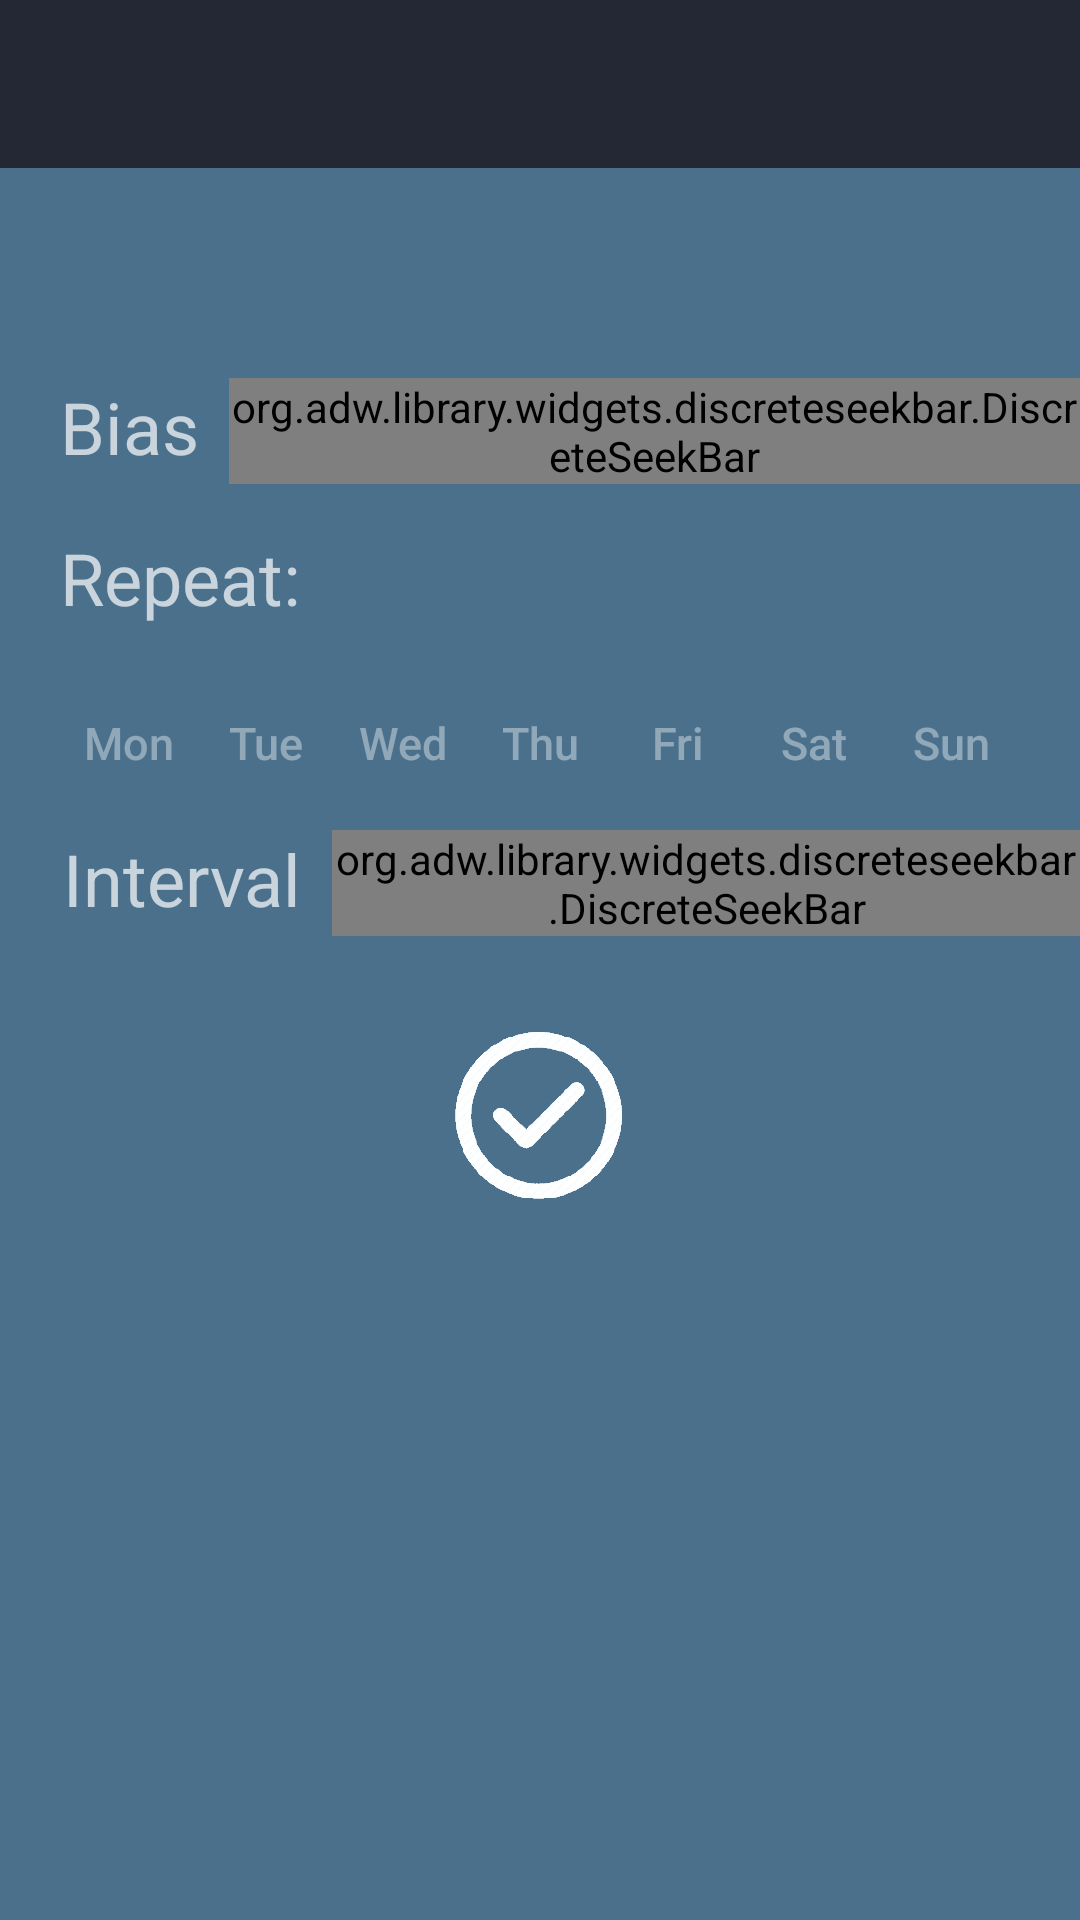

Icon click points for this 1080 × 1920 phone screenshot, format (x=x, y=y):
add alarm confirm: (x=538, y=1115)
